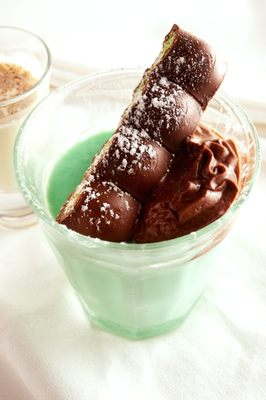pizza: (10, 18, 251, 340), (0, 26, 53, 230), (0, 25, 53, 126)
sushi: (13, 32, 262, 342)
